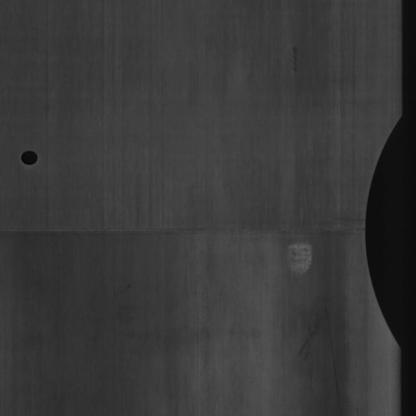crescent_gap: (360, 105, 405, 360)
punching_hole: (16, 144, 44, 177)
rolled_pit: (289, 45, 300, 78)
welding_line: (2, 207, 365, 238)
